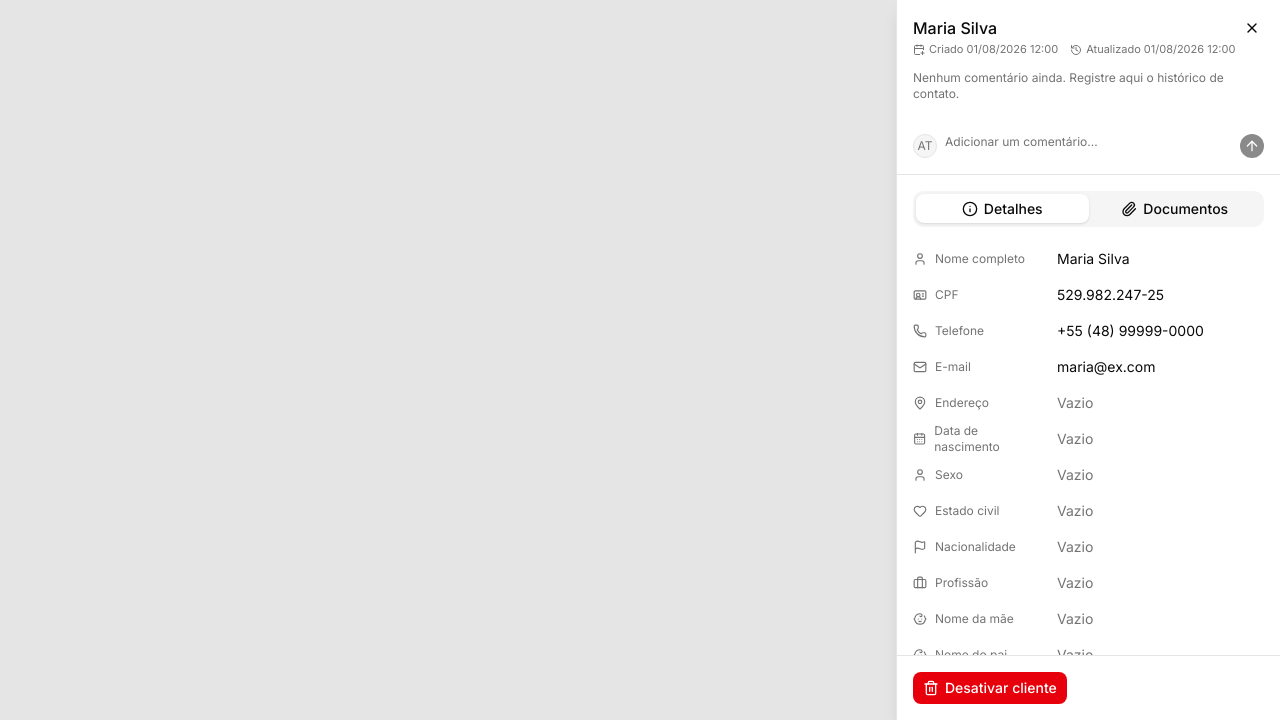
Test: ClienteSheet › mostra a lista de documentos do cliente ao trocar para a aba Documentos
Click the tab "Documentos".
click(1175, 209)  # box [1088,194,1261,223]
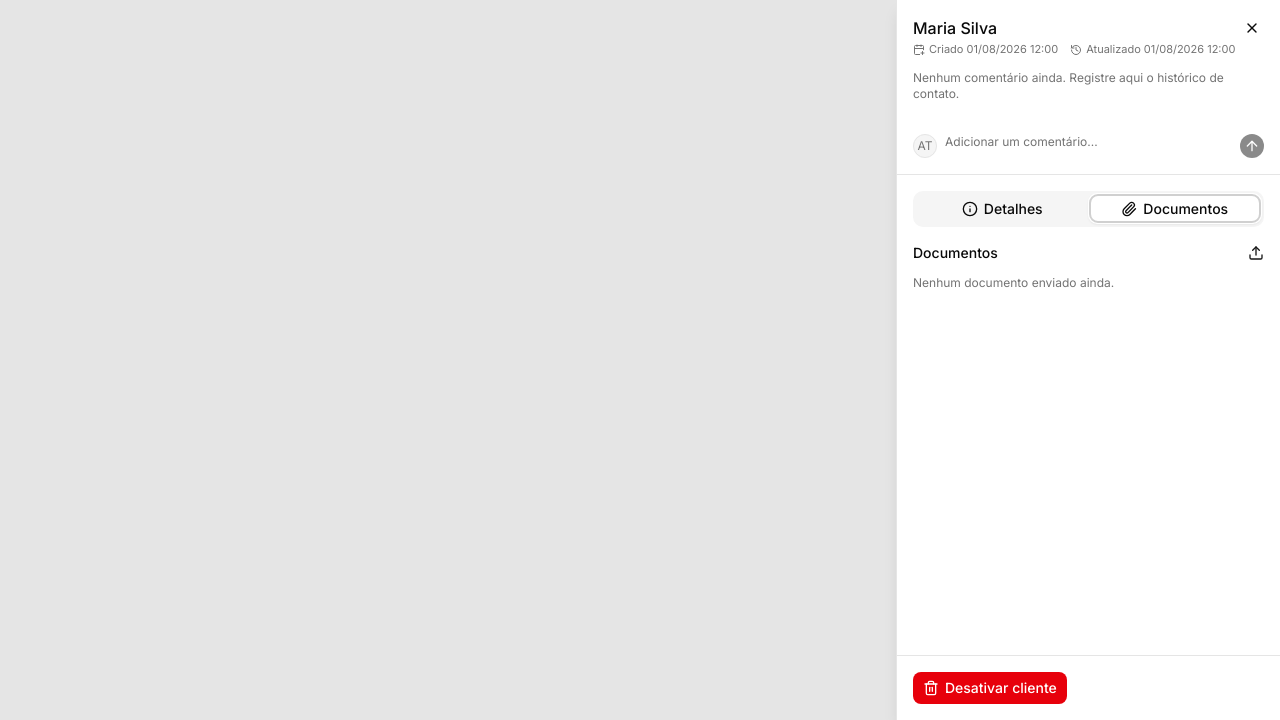
Result: the text "Nenhum documento enviado ainda." is shown at [913,275,1114,290]
